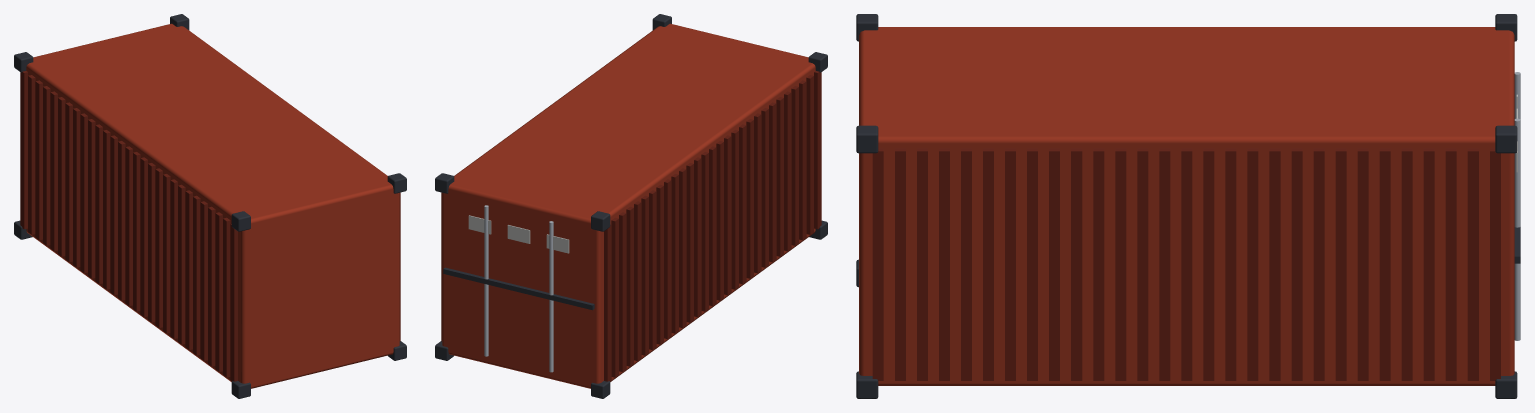
Rendered from obstacle_container.glb.
The picture shows the model from 3 angles, left to right: view 1: azimuth 30°, elevation 25°; view 2: azimuth 150°, elevation 25°; view 3: azimuth 270°, elevation 25°; orthographic projection. The views are drawn at different scales.
Visible parts, largest first — view 1: Container; view 2: Container; view 3: Container.
Part boxes in pixels (x1,y1,x2,y2): Container: (14,14,406,398); Container: (435,14,827,398); Container: (856,14,1520,398).
Size of the model in its own units: 2.6 by 2.66 by 6.03.
